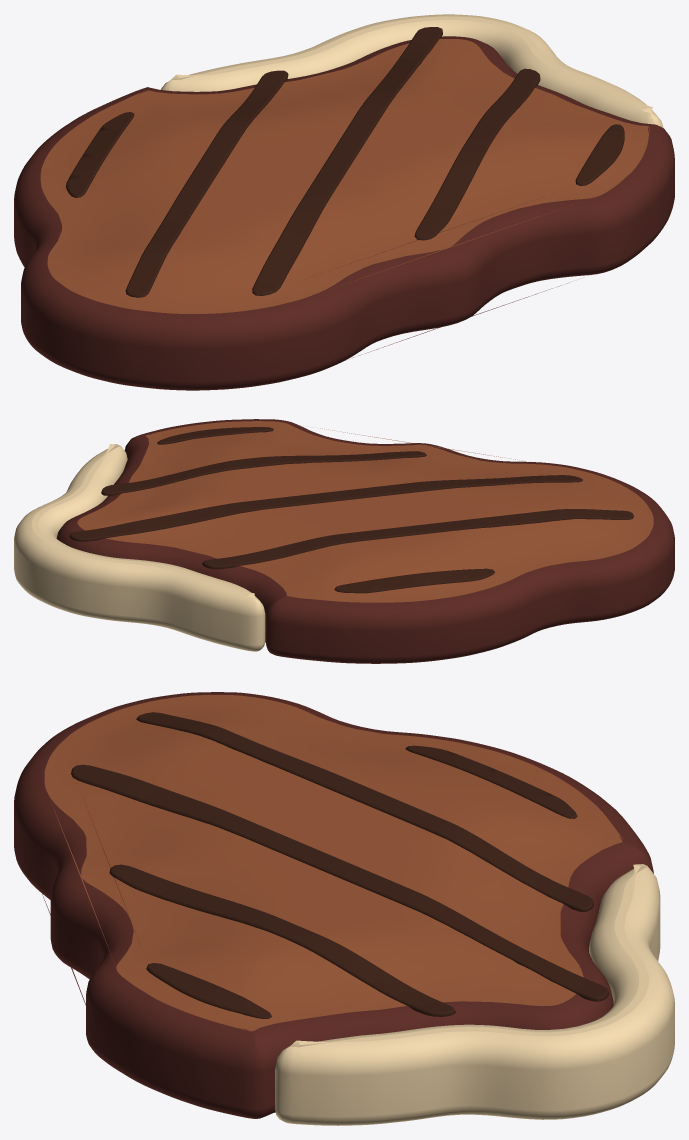
Rendered from PrimeCutRibeye.obj.
3 renders of one model, top to bottom at view 1: azimuth 30°, elevation 25°; view 2: azimuth 150°, elevation 25°; view 3: azimuth 270°, elevation 25°, orthographic. The views are drawn at different scales.
Parts seen in each view (by area): view 1: Meat, Crust, Marks, Fat; view 2: Meat, Crust, Fat, Marks; view 3: Meat, Crust, Fat, Marks.
Part boxes in pixels (x1,y1,x2,y2): Meat: (40,39,649,314); Crust: (14,36,674,390); Marks: (66,27,624,297); Fat: (160,14,663,127); Meat: (77,421,653,602); Crust: (56,419,674,663); Fat: (14,444,265,651); Marks: (69,427,633,593); Meat: (44,695,623,1031); Crust: (14,692,653,1118); Fat: (275,864,674,1125); Marks: (71,712,608,1018).
Bounding box in the file's own units: 14.3 × 1.77 × 10.83.
